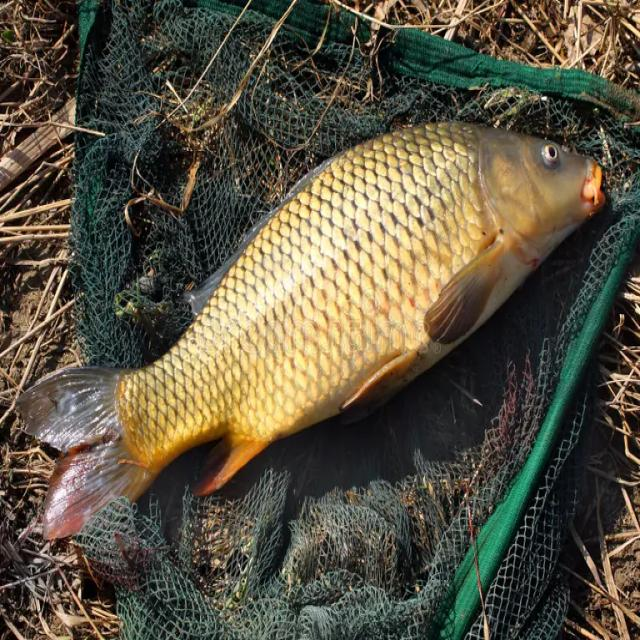Common carp: (15, 122, 606, 539)
